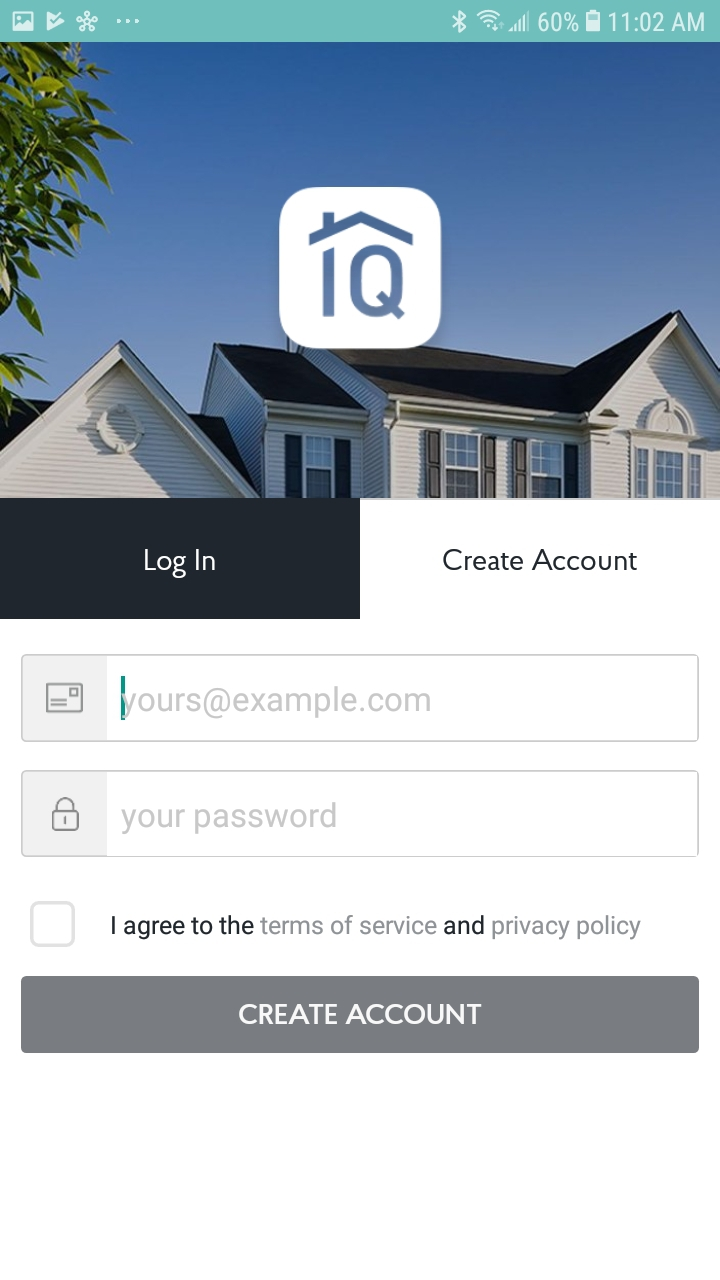CheckedTextView: (31, 901, 641, 948)
EditText: (22, 654, 700, 743), (22, 770, 699, 858)
Icon: (46, 682, 84, 714), (52, 798, 80, 832)
Image: (1, 43, 720, 499), (279, 188, 441, 349)
Text: (113, 915, 641, 941), (122, 686, 431, 719), (122, 802, 337, 835), (443, 548, 638, 571)
TextButton: (21, 975, 699, 1054), (1, 499, 361, 620)
UpperTaskBar: (1, 1, 720, 43)
